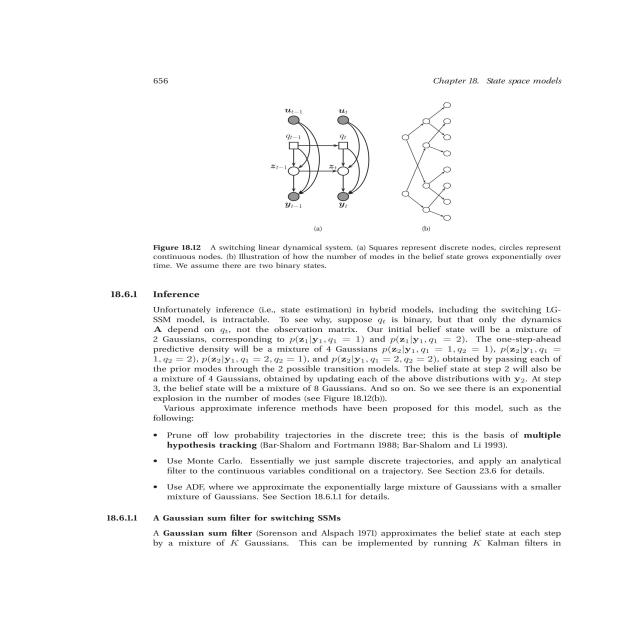diagram: (85, 93, 624, 278)
